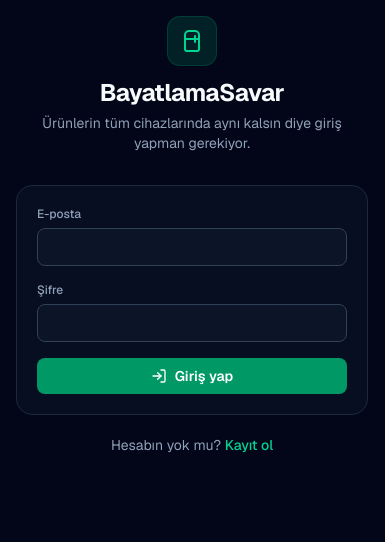
Test case: AuthScreen › hata mesajını gösterir
Type "ev@ornek.com" into the field labelled "E-posta" at (192, 247), box 37,228 -> 347,266
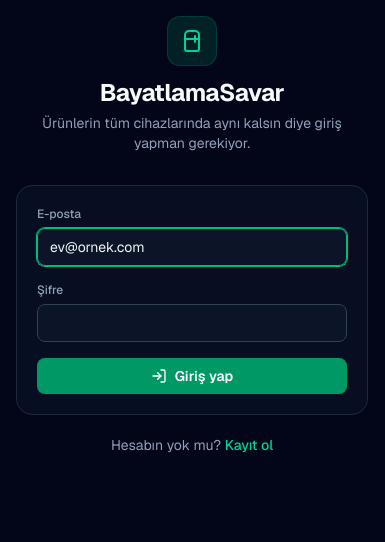
Type "yanlis" into the password field labelled "Şifre" at (192, 323), box 37,304 -> 347,342
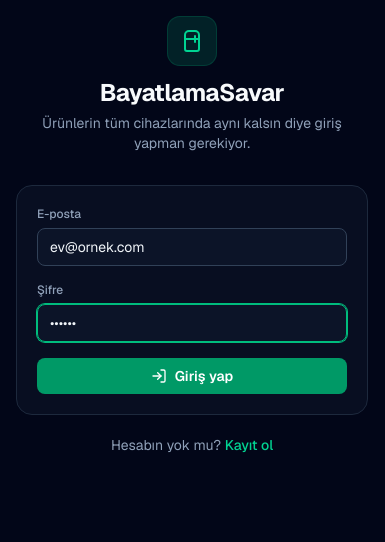
Click the button "Giriş yap" at (192, 376), box 37,358 -> 347,394
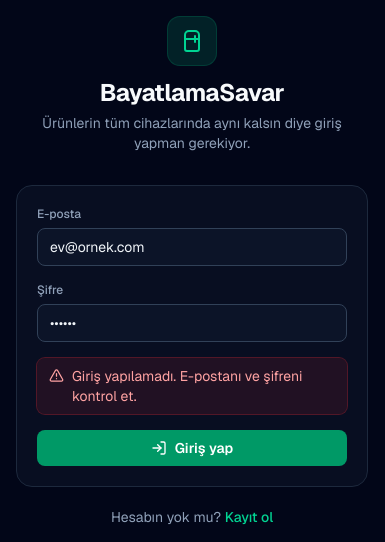
Expected: the message "Giriş yapılamadı. E-postanı ve şifreni kontrol et." is shown, 37,358 -> 347,414
